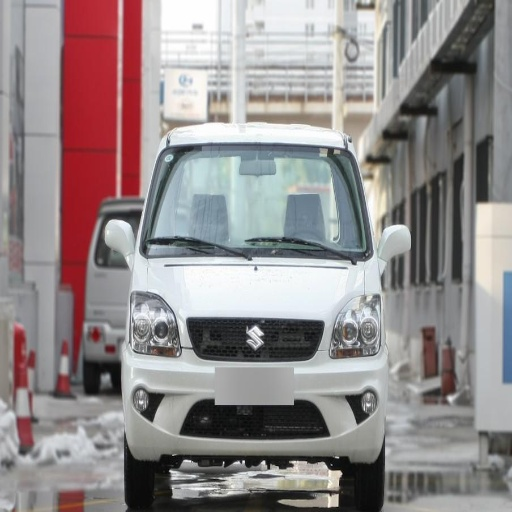front_bumper: (125, 311, 388, 462)
front_right_light: (129, 290, 181, 355)
hood: (146, 260, 364, 321)
